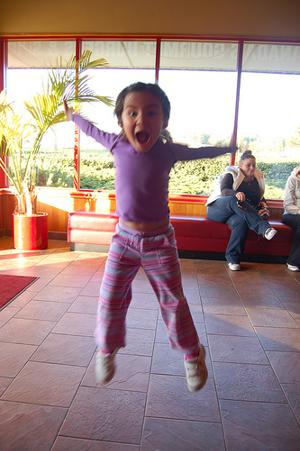person: (64, 83, 250, 399)
